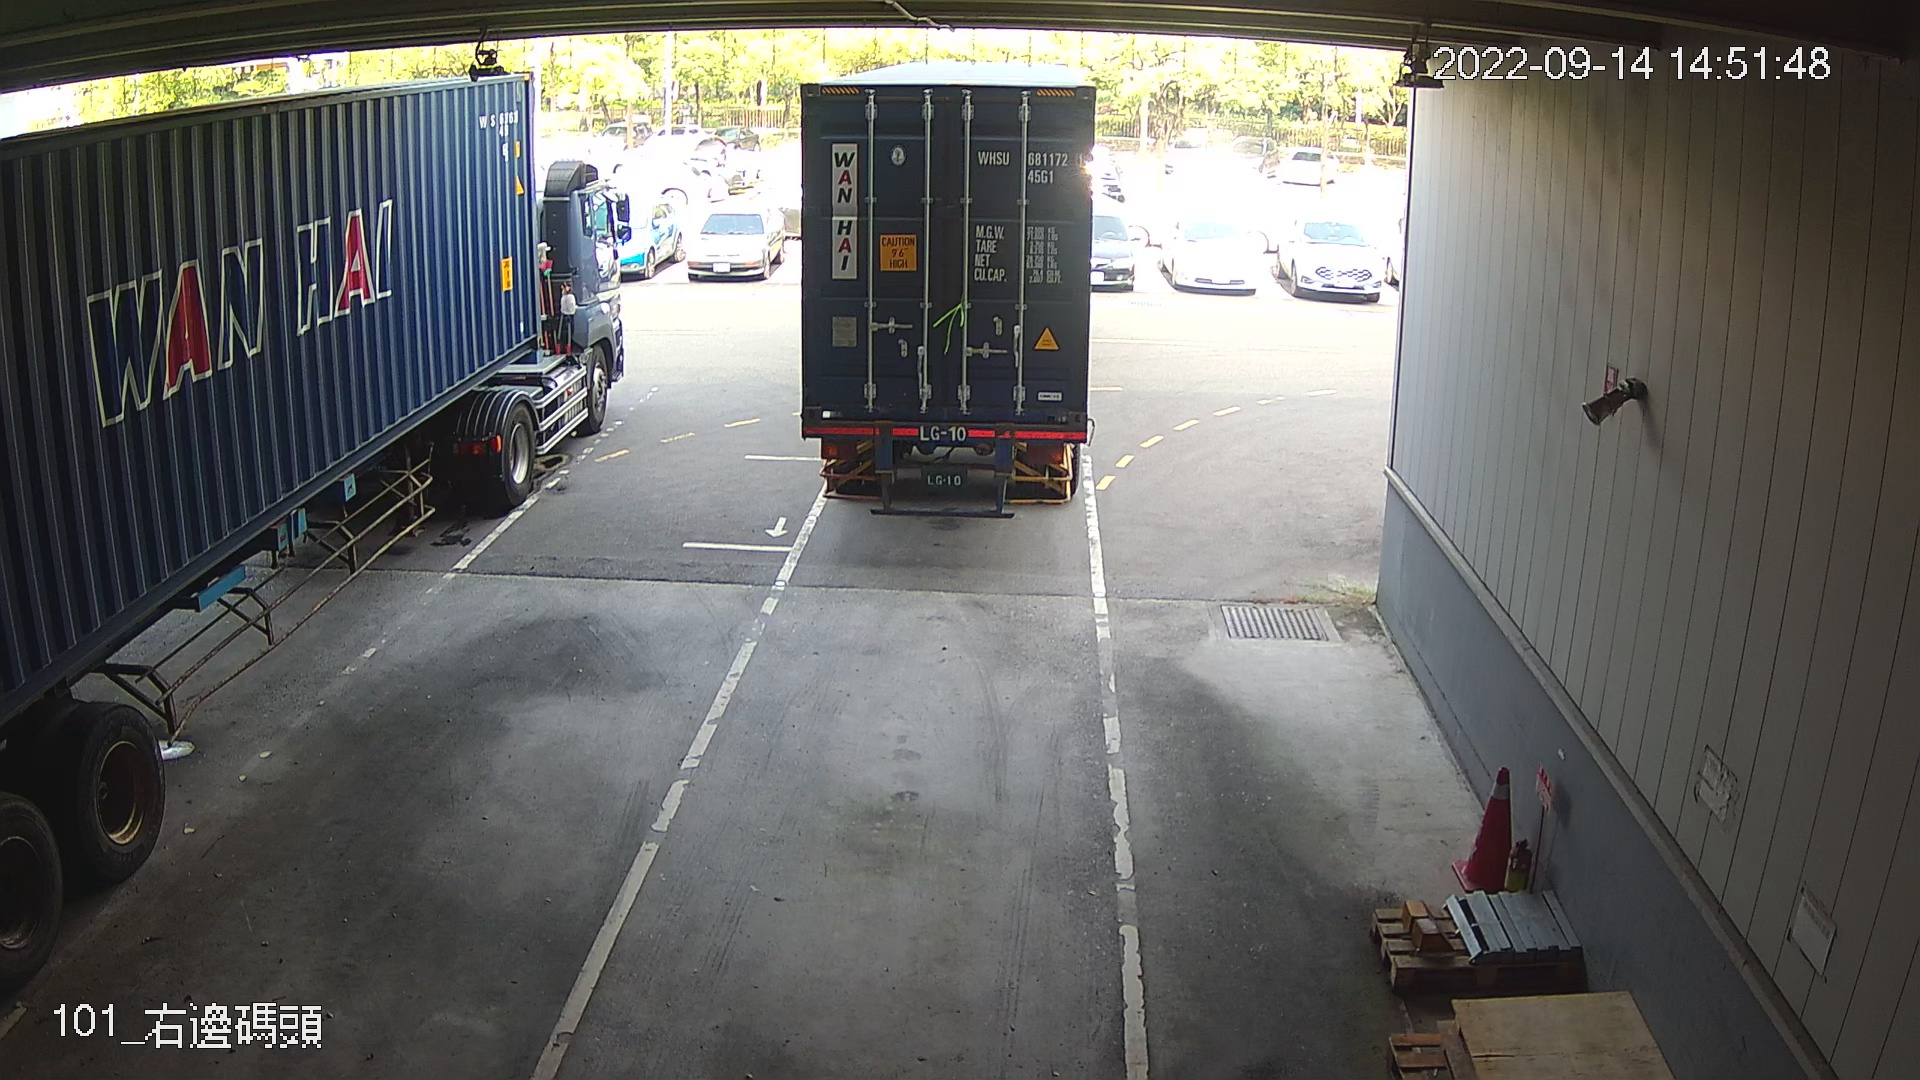container: (973, 141, 1087, 191)
